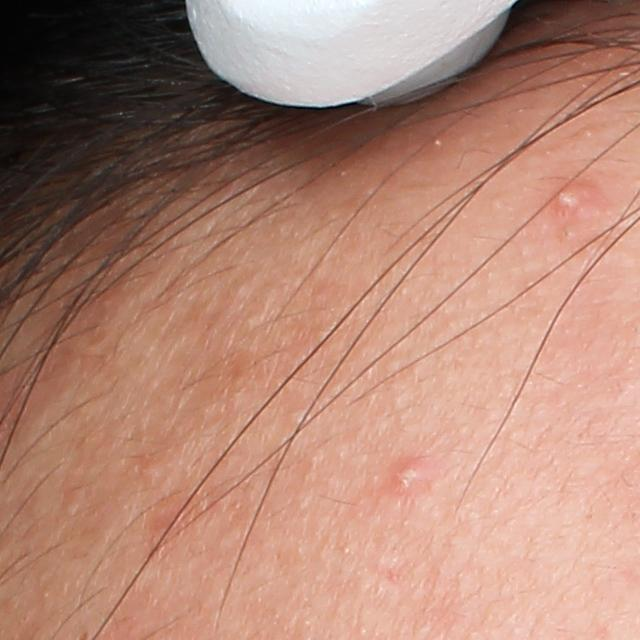pustule: (548, 177, 579, 223)
